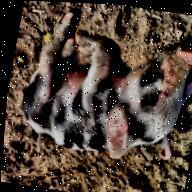boar: (11, 7, 192, 169)
